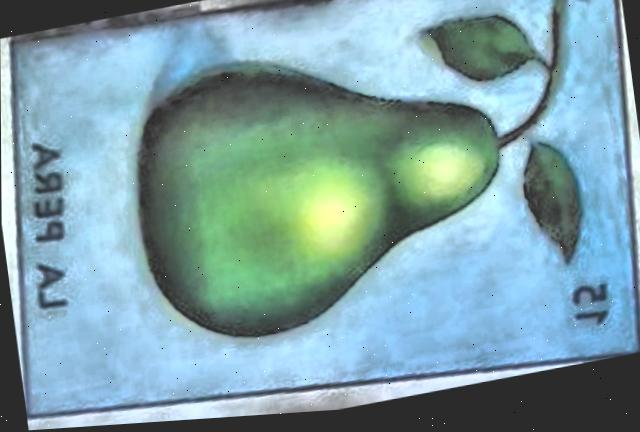La Pera: (9, 0, 638, 416)
